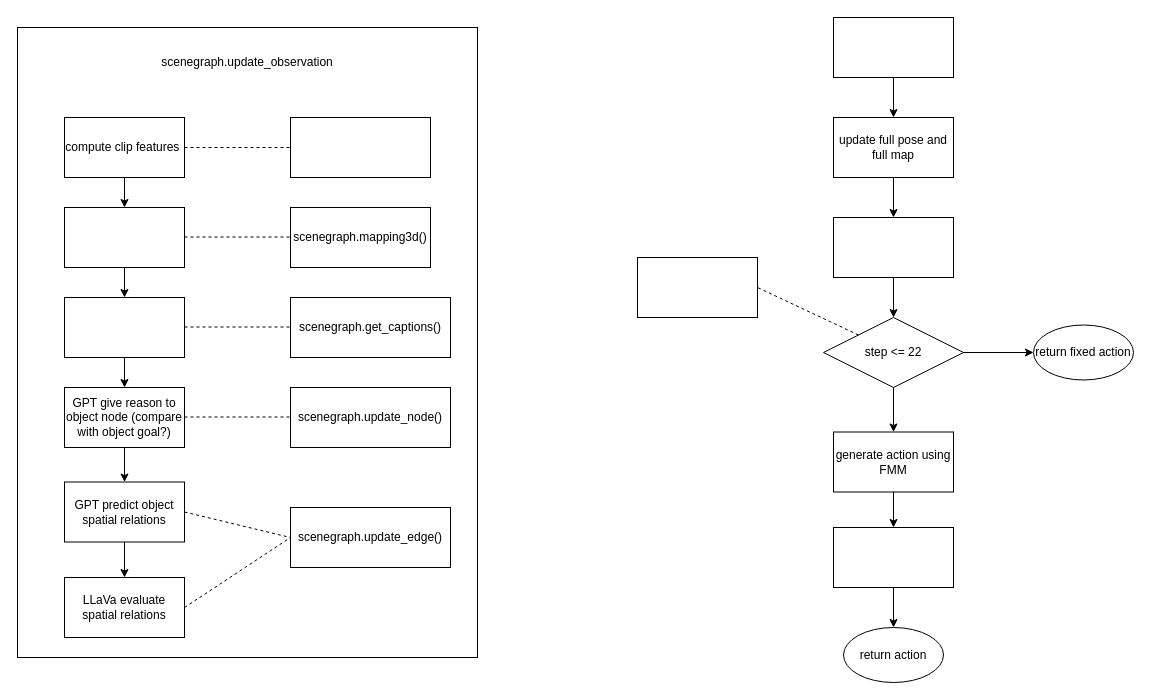
The diagram is 1151 pixels wide and 700 high, and some of its shapes have lost their labels. The centre of each missing label's shape, as x and y in pixels:
calculate relative goal gps: the point at 893,557
Initialize map: the point at 697,287
LLaVa get captions from cropped images: the point at 124,327
rgb, depth -> foreground objects: the point at 124,237
scenegraph.segment2d(): the point at 360,147
update fbe free map: the point at 893,247
update scenegraph: the point at 893,47
